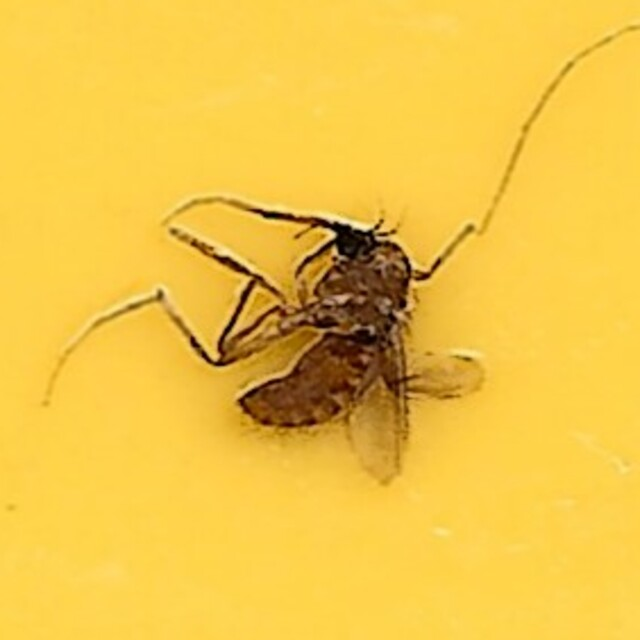Nematocera: (227, 209, 413, 431)
